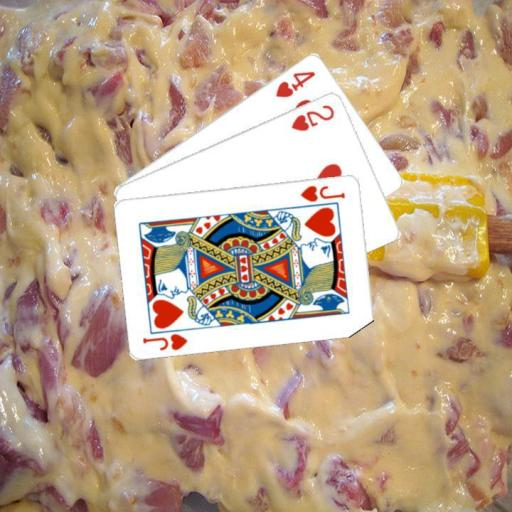2H: (288, 101, 336, 132)
4H: (273, 67, 318, 99)
JH: (298, 181, 347, 203), (140, 330, 189, 351)
